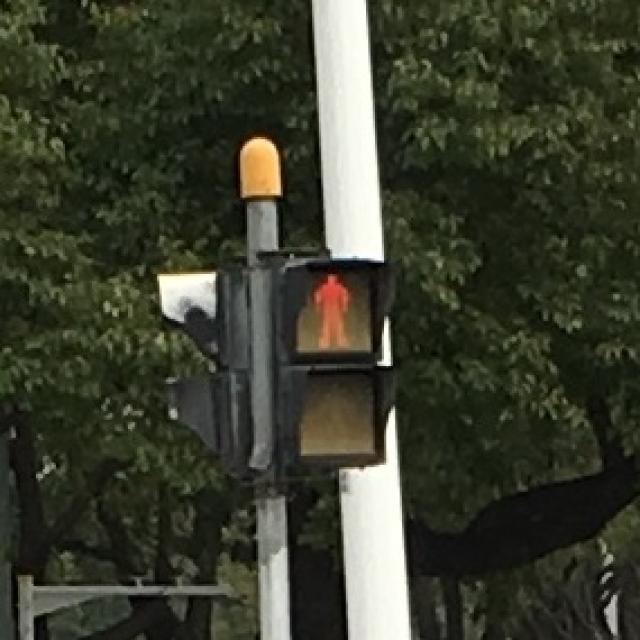red_light: (294, 262, 371, 352)
